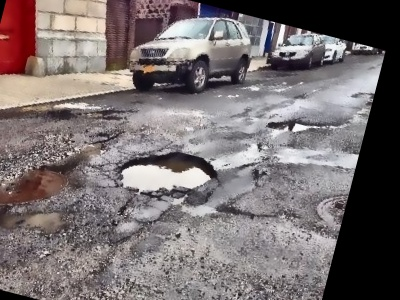pothole: (115, 136, 223, 213), (0, 195, 73, 243), (76, 94, 136, 129), (265, 112, 312, 140)
